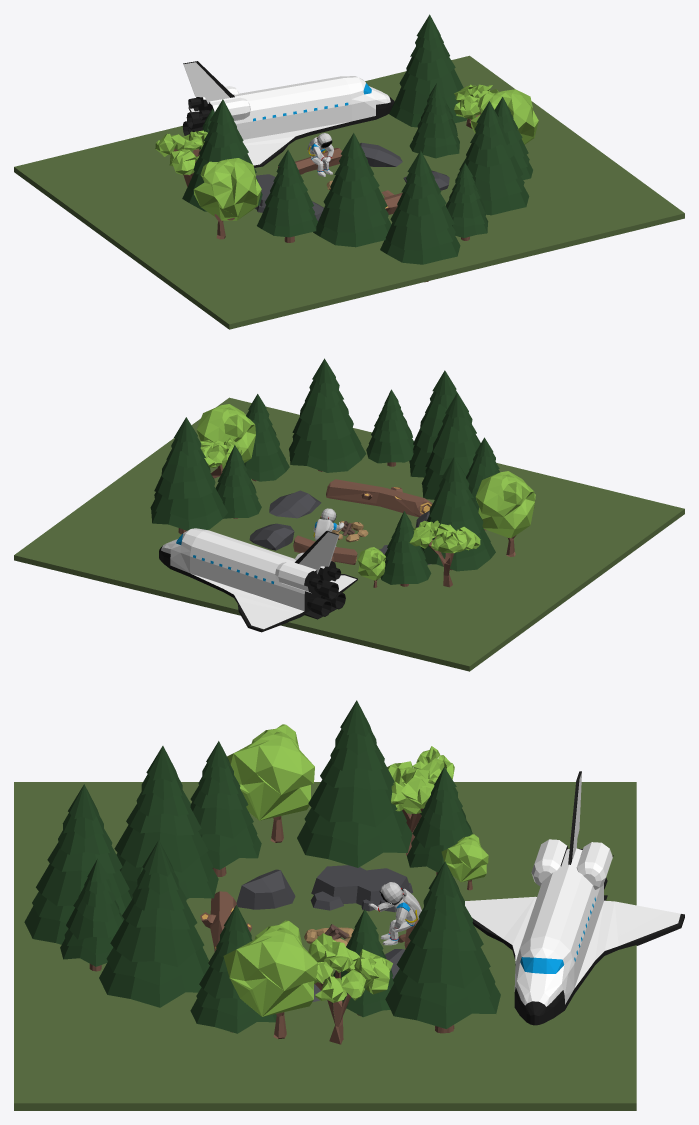
File: sceneglb.glb
3 renders of one model, top to bottom at view 1: azimuth 30°, elevation 25°; view 2: azimuth 150°, elevation 25°; view 3: azimuth 270°, elevation 25°, orthographic. The views are drawn at different scales.
Parts seen in each view (by area): view 1: Cube, group124037832, Node.011, Node.012, Node.004, Node.006, Node.002, Node.010, Node.003, Node.005, Node.013, Node.009 (+5 smaller); view 2: Cube, group124037832, Node.006, Node.004, Node.003, Node.002, Node.012, Node.013, Node, Node.008, group1305922676, Node.011 (+10 smaller); view 3: Cube, group124037832, Node.006, Node.003, Node.004, Node.012, Node.011, Node.009, Node.002, Node.010, Node.007, Node.008 (+9 smaller).
Boxes of the visible parts, x1,y1,x2,y2 form: Cube: [14, 55, 684, 329]; group124037832: [182, 61, 394, 167]; Node.011: [380, 150, 460, 282]; Node.012: [313, 133, 391, 247]; Node.004: [459, 101, 529, 215]; Node.006: [389, 14, 466, 127]; Node.002: [193, 158, 261, 239]; Node.010: [257, 149, 317, 242]; Node.003: [182, 99, 262, 211]; Node.005: [409, 83, 459, 158]; Node.013: [446, 163, 488, 240]; Node.009: [470, 89, 538, 144]; Cube: [14, 397, 684, 671]; group124037832: [159, 528, 357, 632]; Node.006: [150, 417, 227, 534]; Node.004: [289, 358, 366, 472]; Node.003: [421, 457, 495, 571]; Node.002: [475, 471, 535, 556]; Node.012: [421, 392, 480, 499]; Node.013: [366, 389, 414, 466]; Node: [380, 511, 431, 586]; Node.008: [244, 394, 289, 481]; group1305922676: [326, 479, 432, 517]; Node.011: [409, 370, 457, 477]; Cube: [14, 782, 636, 1110]; group124037832: [465, 771, 684, 1025]; Node.006: [385, 861, 500, 1033]; Node.003: [297, 700, 412, 867]; Node.004: [99, 840, 209, 1007]; Node.012: [114, 746, 218, 899]; Node.011: [24, 784, 131, 944]; Node.009: [223, 920, 317, 1038]; Node.002: [227, 724, 314, 842]; Node.010: [190, 741, 261, 876]; Node.007: [307, 933, 392, 1044]; Node.008: [190, 905, 276, 1033].
Size of the model in its own units: 12.39 by 3.93 by 10.93.
27 materials, 1 textured.
